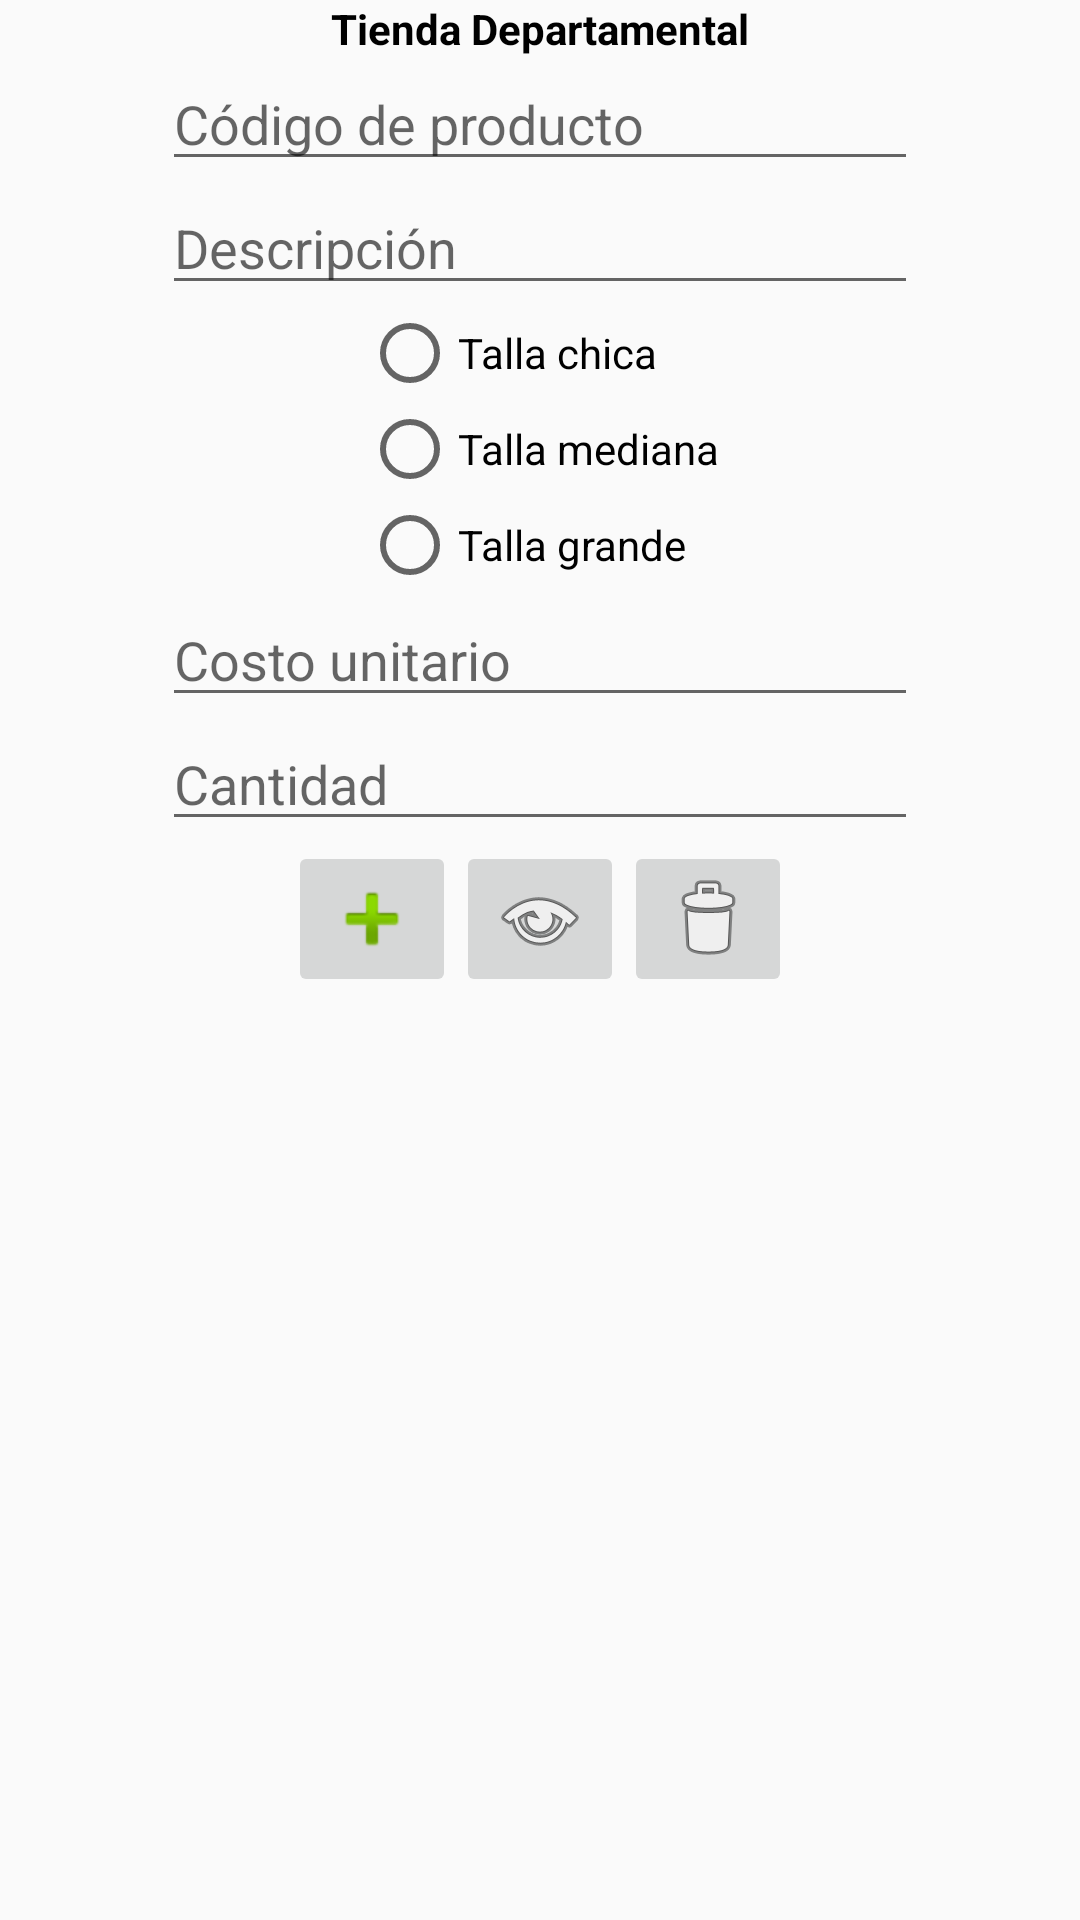

Where to tap for icons on this 1080 × 1920 app screen, as point (x, y):
add: point (372, 919)
delete: point (708, 919)
view: point (540, 919)
